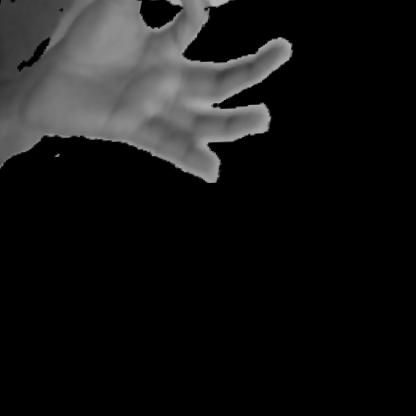ok: (0, 0, 308, 202)
